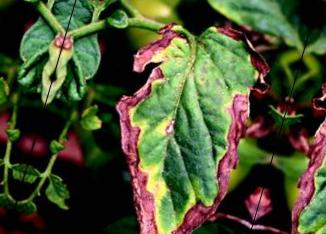Tomato leaf bacterial spot: (72, 4, 283, 234)
